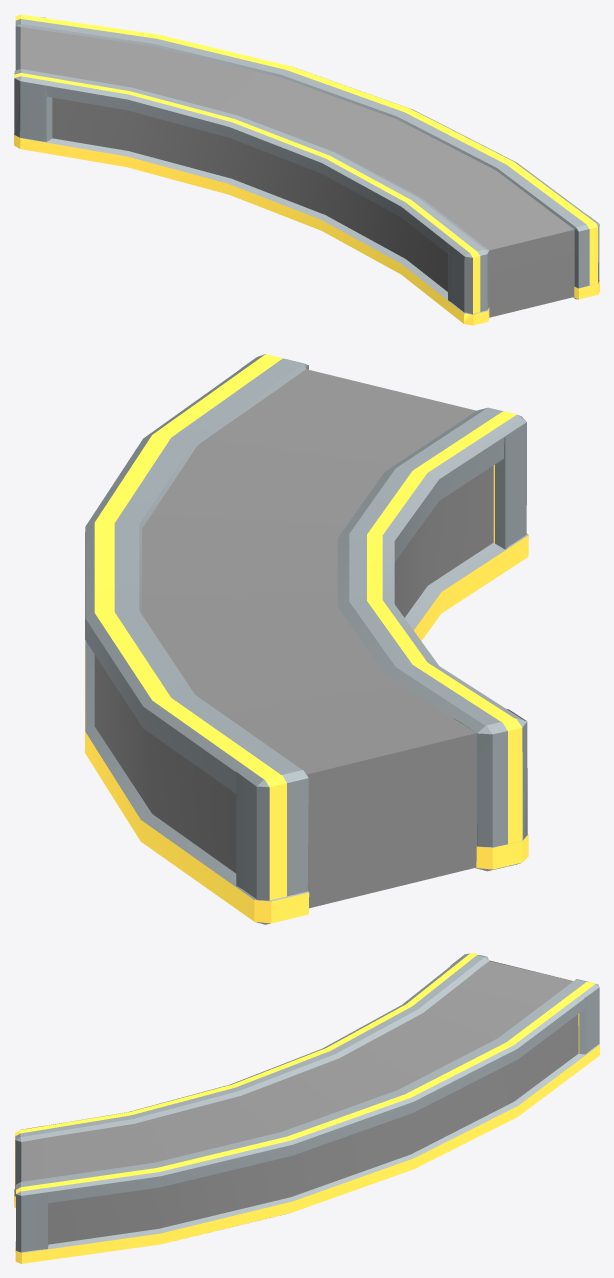
The model's file is SM_60DegreeUpwardsLonger_v1_1.fbx.
The picture shows the model from 3 angles, top to bottom: view 1: azimuth 30°, elevation 25°; view 2: azimuth 150°, elevation 25°; view 3: azimuth 270°, elevation 25°; orthographic projection. The views are drawn at different scales.
Parts seen in each view (by area): view 1: SM_60DegUpwardsLonger_HologramMain_v1_1, SM_60DegUpwardsLonger_MainStructure_v1_1, SM_60DegUpwardsLonger_HologramInner_v1_1, SM_60DegUpwardsLonger_InnerStructure_v1_1, SM_60DegUpwardsLonger_HologramLower_v1_1, SM_60DegUpwardsLonger_LowerStructure_v1_1, SM_60DegUpwardsLonger_UpperStructure_v1_1, SM_60DegUpwardsLonger_HologramMainLower_v1_1; view 2: SM_60DegUpwardsLonger_HologramMain_v1_1, SM_60DegUpwardsLonger_MainStructure_v1_1, SM_60DegUpwardsLonger_HologramUpper_v1_1, SM_60DegUpwardsLonger_UpperStructure_v1_1, SM_60DegUpwardsLonger_HologramOuter_v1_1, SM_60DegUpwardsLonger_OuterStructure_v1_1, SM_60DegUpwardsLonger_HologramInner_v1_1, SM_60DegUpwardsLonger_InnerStructure_v1_1, SM_60DegUpwardsLonger_LowerStructure_v1_1, SM_60DegUpwardsLonger_HologramMainUpper_v1_1; view 3: SM_60DegUpwardsLonger_HologramMain_v1_1, SM_60DegUpwardsLonger_MainStructure_v1_1, SM_60DegUpwardsLonger_HologramOuter_v1_1, SM_60DegUpwardsLonger_OuterStructure_v1_1, SM_60DegUpwardsLonger_LowerStructure_v1_1, SM_60DegUpwardsLonger_UpperStructure_v1_1.
Boxes of the visible parts, x1,y1,x2,y2 form: SM_60DegUpwardsLonger_HologramMain_v1_1: (20, 27, 573, 250); SM_60DegUpwardsLonger_MainStructure_v1_1: (20, 14, 598, 263); SM_60DegUpwardsLonger_HologramInner_v1_1: (52, 97, 447, 291); SM_60DegUpwardsLonger_InnerStructure_v1_1: (14, 133, 489, 325); SM_60DegUpwardsLonger_HologramLower_v1_1: (489, 241, 574, 317); SM_60DegUpwardsLonger_LowerStructure_v1_1: (448, 222, 599, 313); SM_60DegUpwardsLonger_UpperStructure_v1_1: (14, 14, 52, 141); SM_60DegUpwardsLonger_HologramMainLower_v1_1: (489, 229, 574, 261); SM_60DegUpwardsLonger_HologramMain_v1_1: (142, 369, 475, 774); SM_60DegUpwardsLonger_MainStructure_v1_1: (85, 354, 526, 793); SM_60DegUpwardsLonger_HologramUpper_v1_1: (307, 733, 476, 908); SM_60DegUpwardsLonger_UpperStructure_v1_1: (236, 709, 527, 900); SM_60DegUpwardsLonger_HologramOuter_v1_1: (94, 655, 236, 873); SM_60DegUpwardsLonger_OuterStructure_v1_1: (85, 640, 309, 924); SM_60DegUpwardsLonger_HologramInner_v1_1: (394, 465, 493, 617); SM_60DegUpwardsLonger_InnerStructure_v1_1: (405, 533, 528, 871); SM_60DegUpwardsLonger_LowerStructure_v1_1: (241, 354, 526, 549); SM_60DegUpwardsLonger_HologramMainUpper_v1_1: (308, 733, 476, 774); SM_60DegUpwardsLonger_HologramMain_v1_1: (21, 961, 573, 1181); SM_60DegUpwardsLonger_MainStructure_v1_1: (15, 954, 599, 1203); SM_60DegUpwardsLonger_HologramOuter_v1_1: (48, 1014, 578, 1244); SM_60DegUpwardsLonger_OuterStructure_v1_1: (15, 1044, 599, 1263); SM_60DegUpwardsLonger_LowerStructure_v1_1: (15, 1125, 48, 1252); SM_60DegUpwardsLonger_UpperStructure_v1_1: (450, 953, 599, 1054).
Size of what is drawn, in the model's own units: 5.6 by 2.08 by 7.89.
